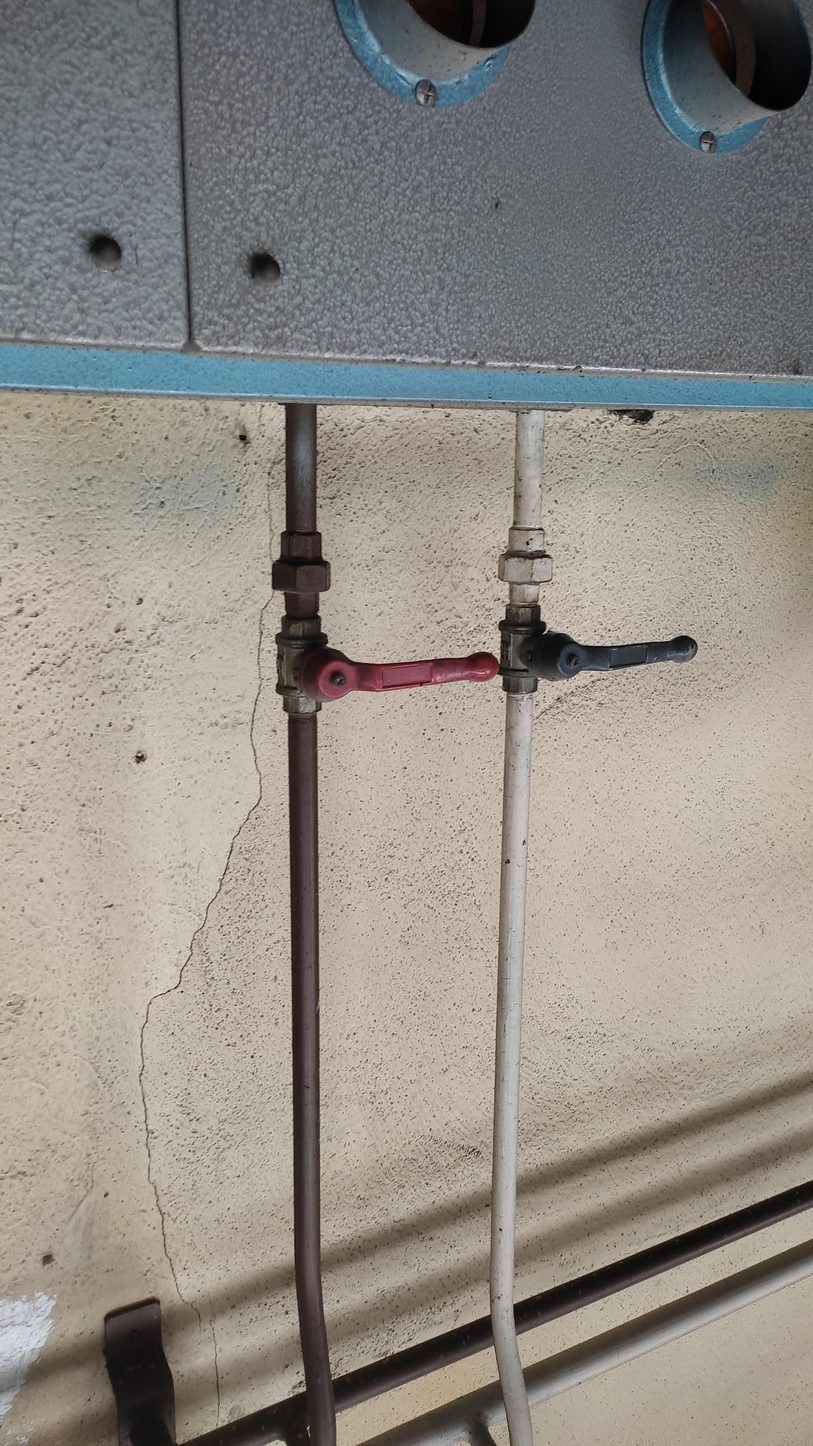closed valve: (272, 611, 499, 714), (498, 601, 701, 697)
